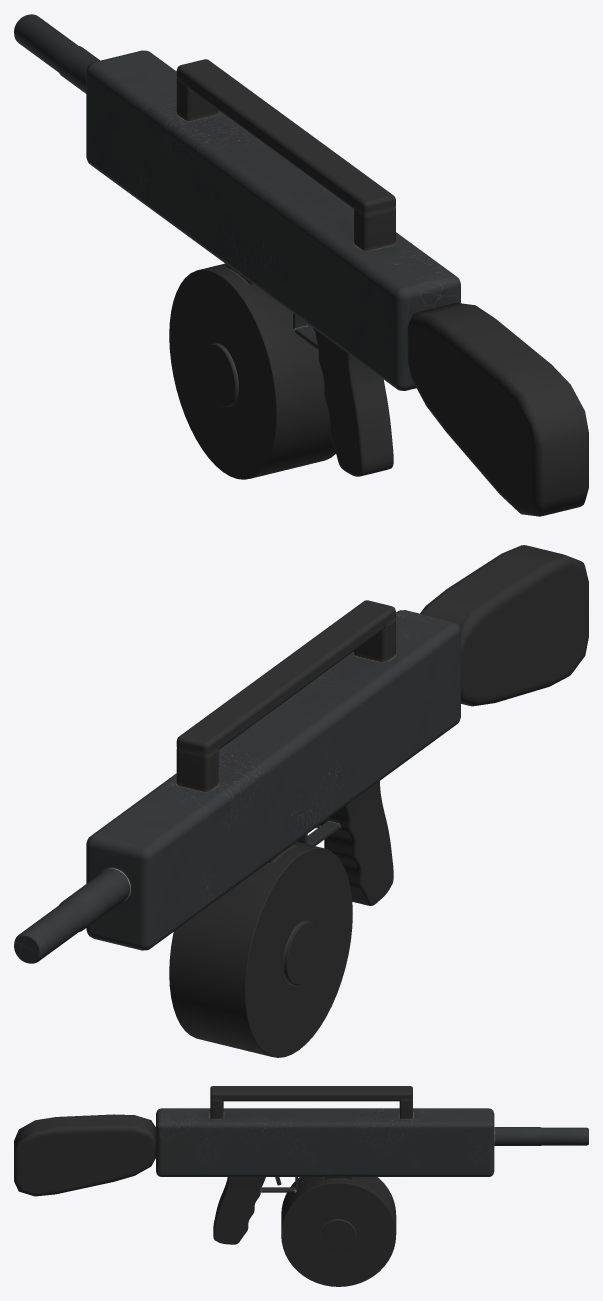
3 renders of one model, top to bottom at view 1: azimuth 30°, elevation 25°; view 2: azimuth 150°, elevation 25°; view 3: azimuth 270°, elevation 25°, orthographic. The views are drawn at different scales.
Visible parts, largest first — view 1: Frame, Mag_body, Stock; view 2: Frame, Mag_body, Stock; view 3: Frame, Mag_body, Stock.
Part boxes in pixels (left/top/right/bottom): Frame: left=14, top=14, right=460, bottom=476; Mag_body: left=169, top=263, right=335, bottom=479; Stock: left=407, top=303, right=588, bottom=516; Frame: left=14, top=600, right=460, bottom=963; Mag_body: left=169, top=841, right=352, bottom=1057; Stock: left=420, top=545, right=588, bottom=706; Frame: left=156, top=1086, right=588, bottom=1244; Mag_body: left=281, top=1177, right=396, bottom=1286; Stock: left=14, top=1114, right=155, bottom=1196.
Bounding box in the file's own units: 0.077 × 0.3063 × 0.85.
Materials: 3 (3 with a texture image).
